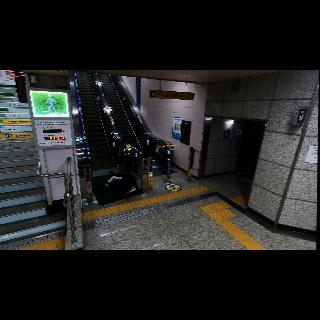anomaly: (103, 167, 140, 196)
